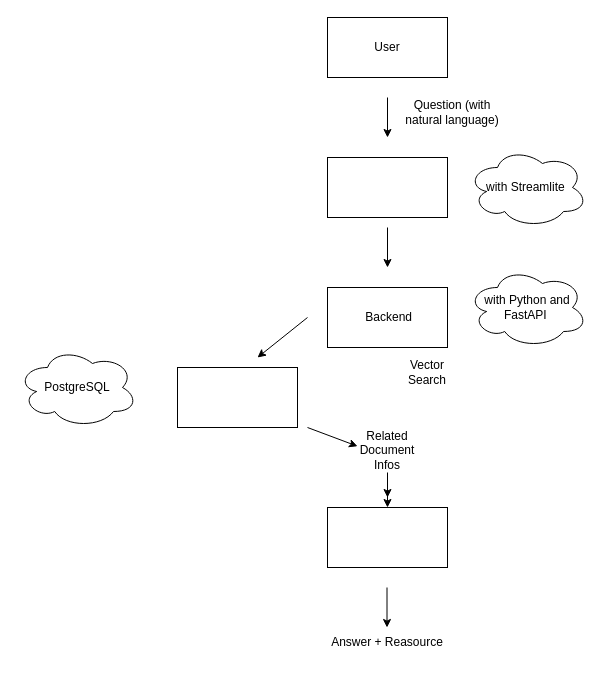
Image size: 605x675. Some labels were removed from this diagram. Here are the shapes that lost their labels. From the top down, the box of each, then its label:
(326, 156, 448, 218): Frontend
(176, 366, 298, 428): Database
(326, 506, 448, 568): LLM (OpenAI)
